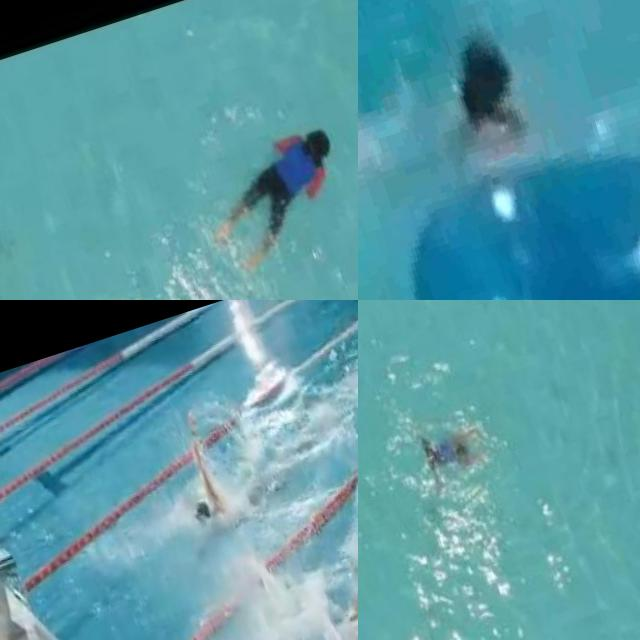drowning: (358, 0, 560, 213)
swimming: (200, 123, 358, 279), (172, 443, 269, 556), (415, 418, 491, 488)
